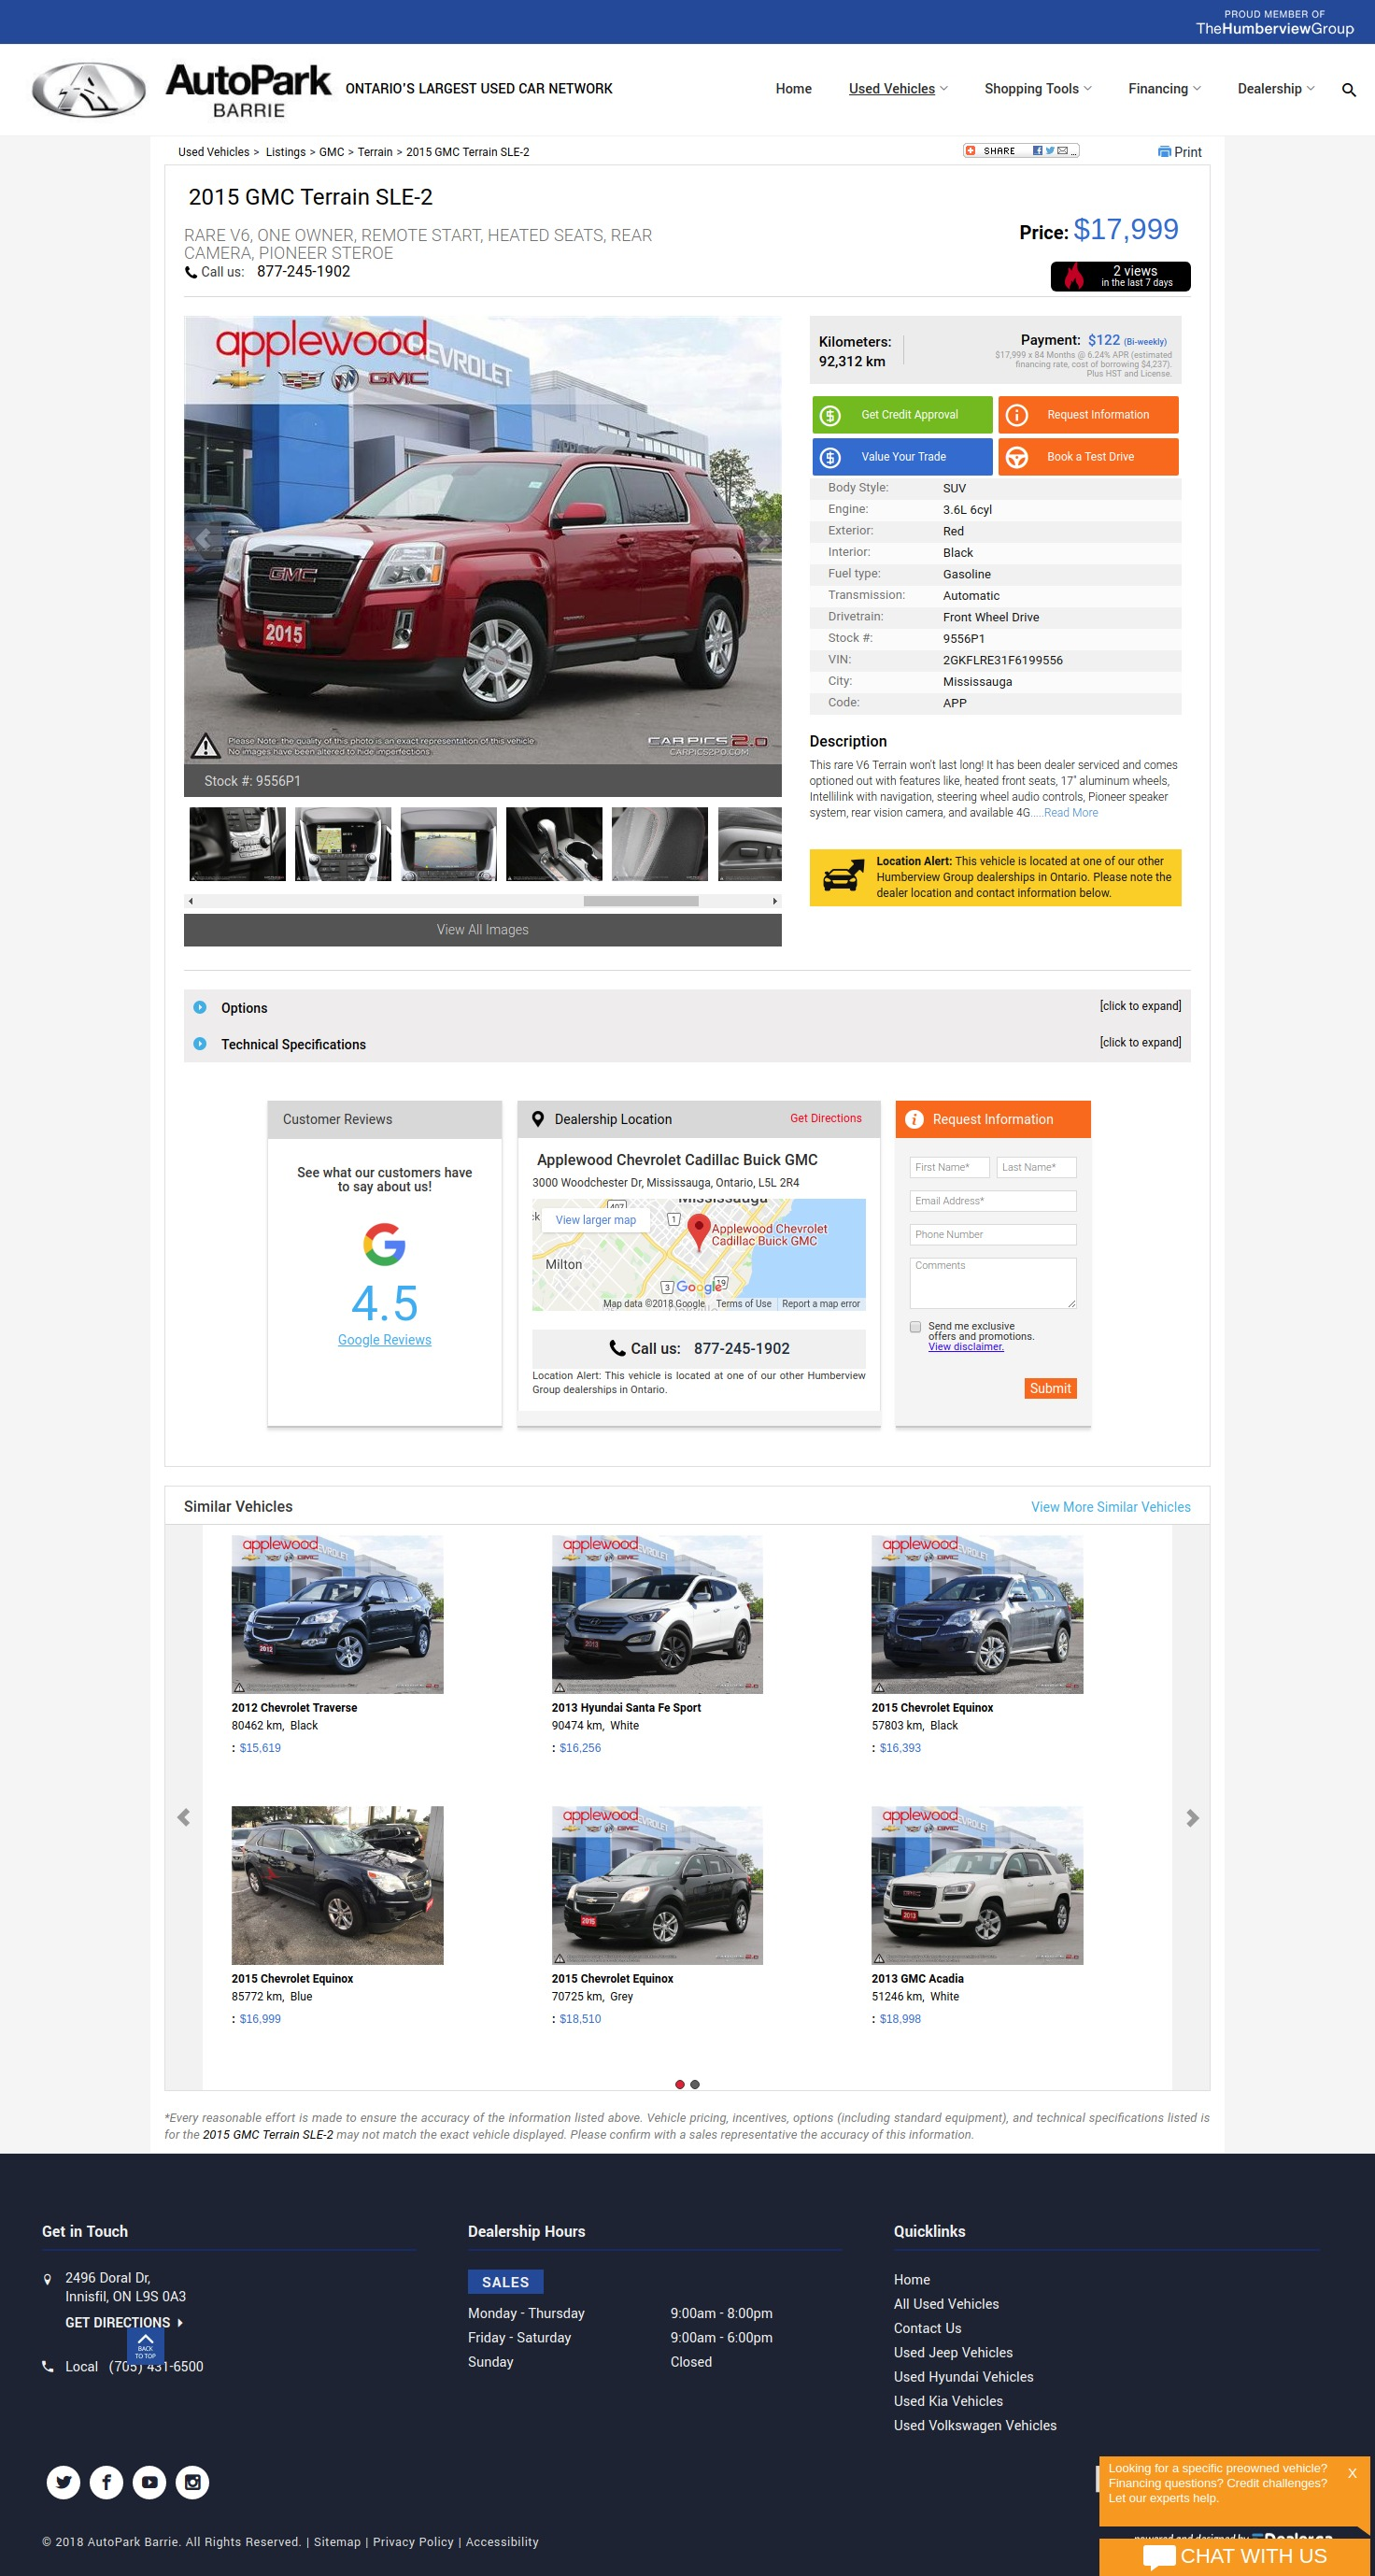car: (748, 520, 785, 555)
